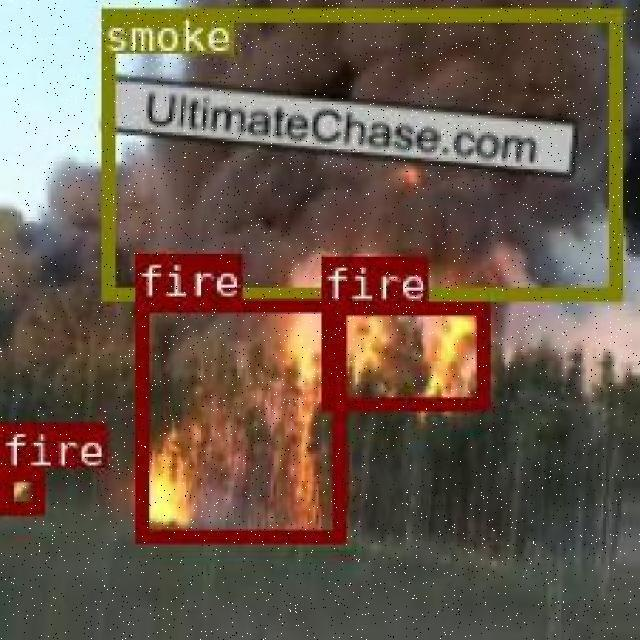Smoke: (98, 0, 620, 234)
